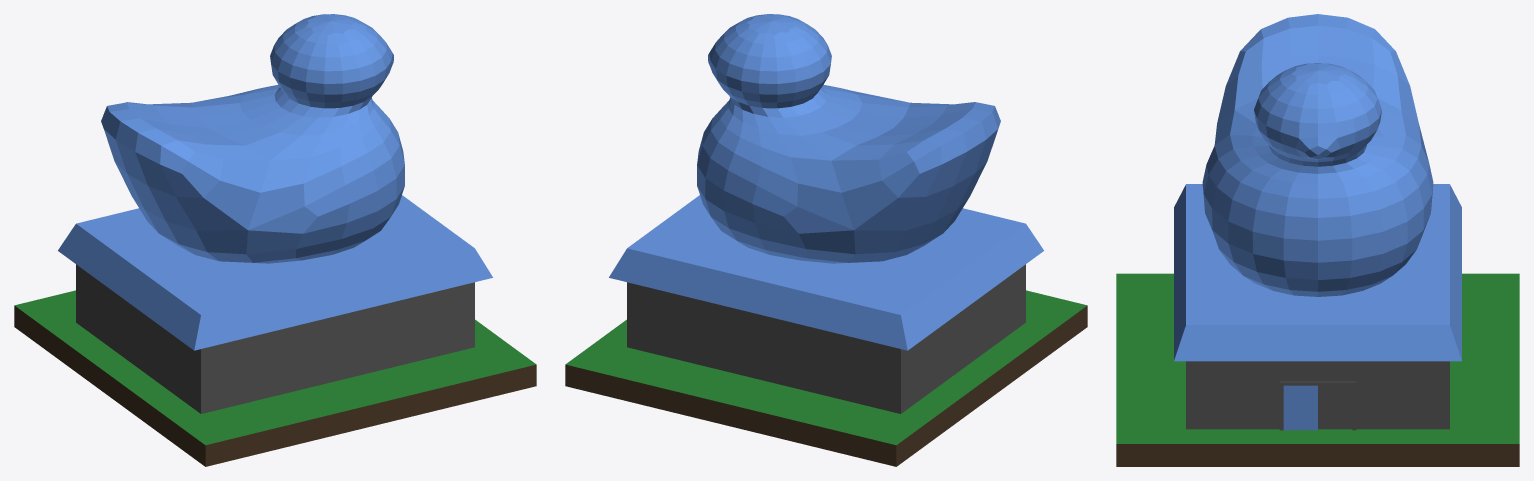
File: shop.glb
3 views of the same model, side by side, from view 1: azimuth 30°, elevation 25°; view 2: azimuth 150°, elevation 25°; view 3: azimuth 270°, elevation 25° (orthographic). The views are drawn at different scales.
Visible parts, largest first — view 1: Building, Cylinder, Floor; view 2: Building, Cylinder, Floor; view 3: Cylinder, Building, Floor, door, frame.
Part boxes in pixels (x1,y1,x2,y2): Building: [58, 195, 492, 413]; Cylinder: [101, 14, 404, 263]; Floor: [14, 290, 536, 466]; Building: [609, 195, 1043, 413]; Cylinder: [697, 14, 1000, 263]; Floor: [565, 290, 1087, 466]; Cylinder: [1202, 14, 1433, 296]; Building: [1174, 184, 1461, 429]; Floor: [1116, 273, 1519, 466]; door: [1283, 385, 1317, 430]; frame: [1279, 381, 1356, 430].
Size of the model in its own units: 13.56 by 12.58 by 13.56.
